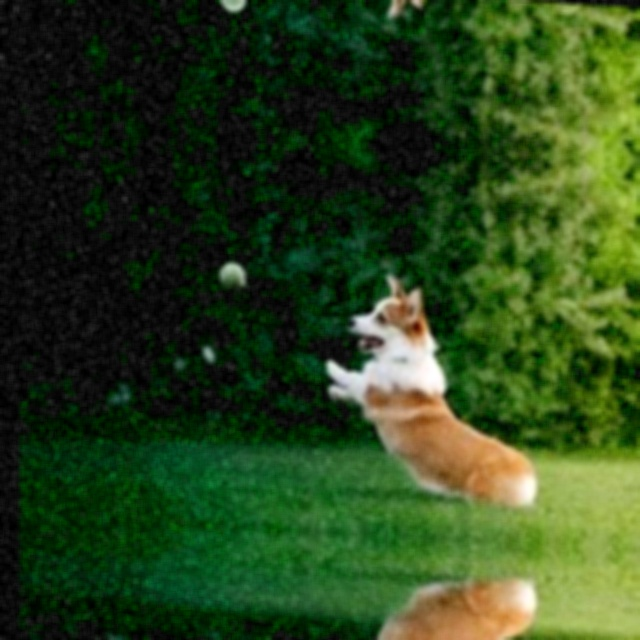dog: (305, 250, 543, 542), (305, 532, 543, 640), (307, 0, 545, 44)
